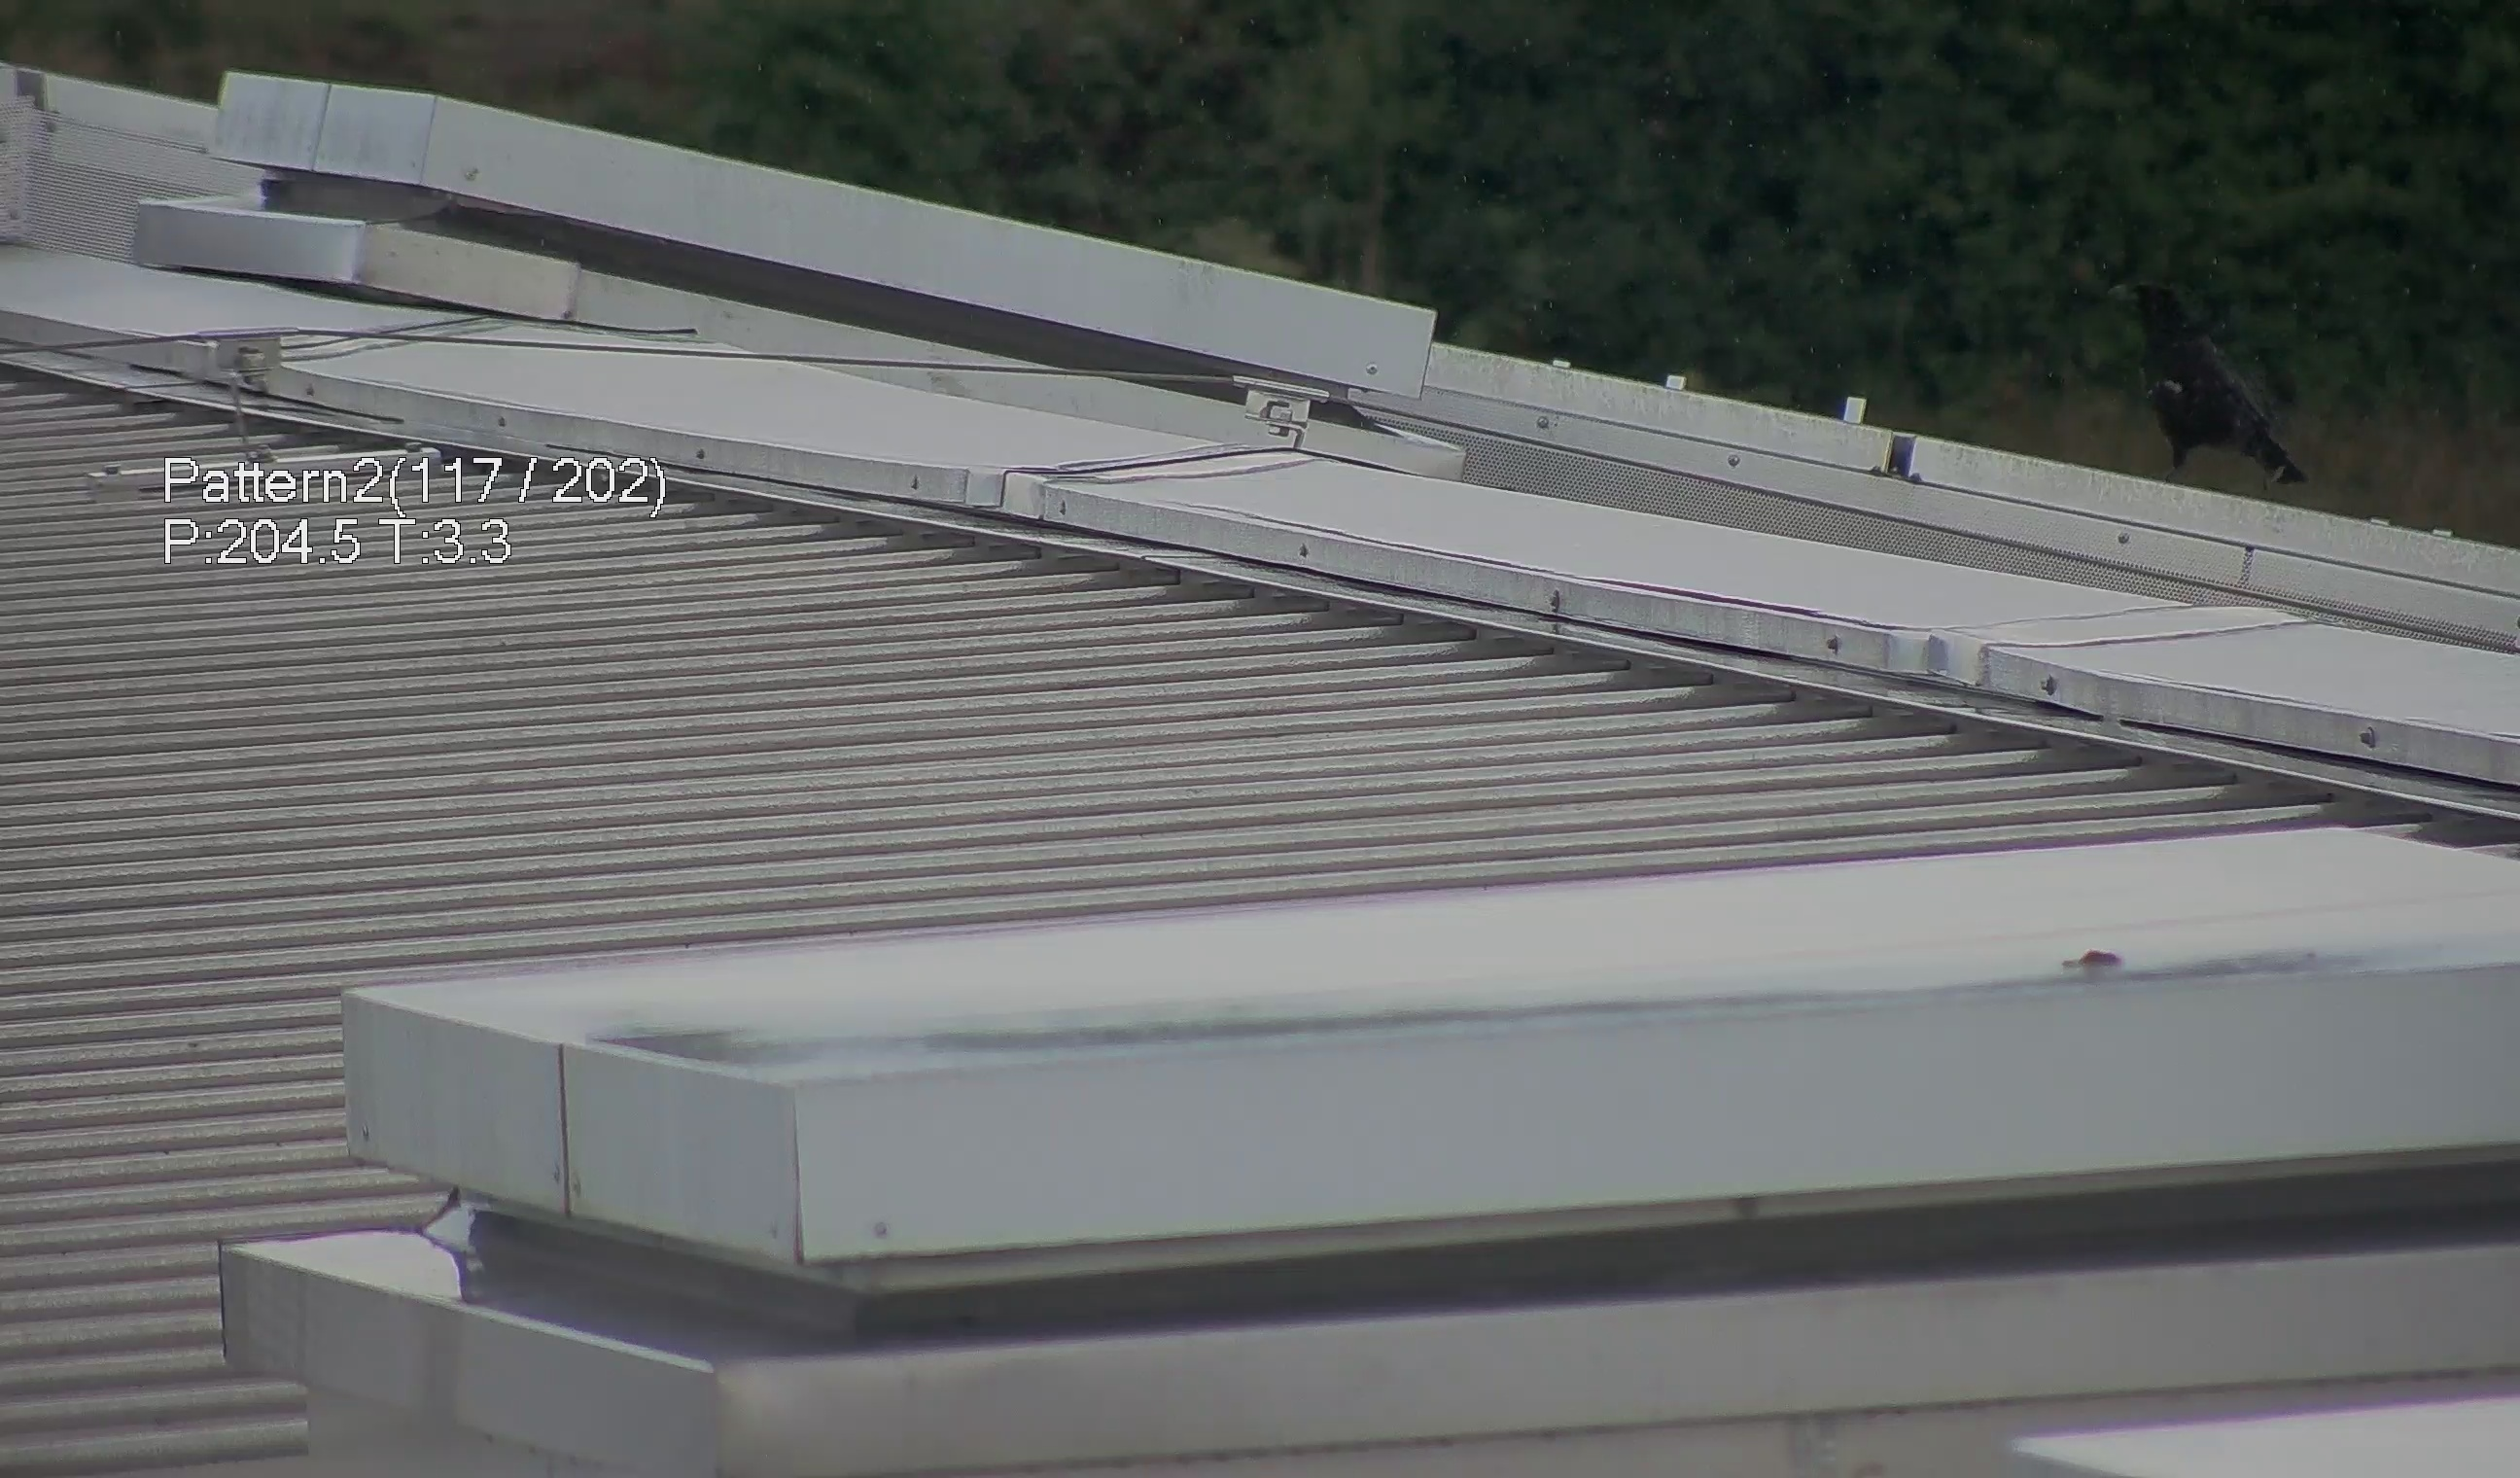Other: (2119, 280, 2321, 491)
